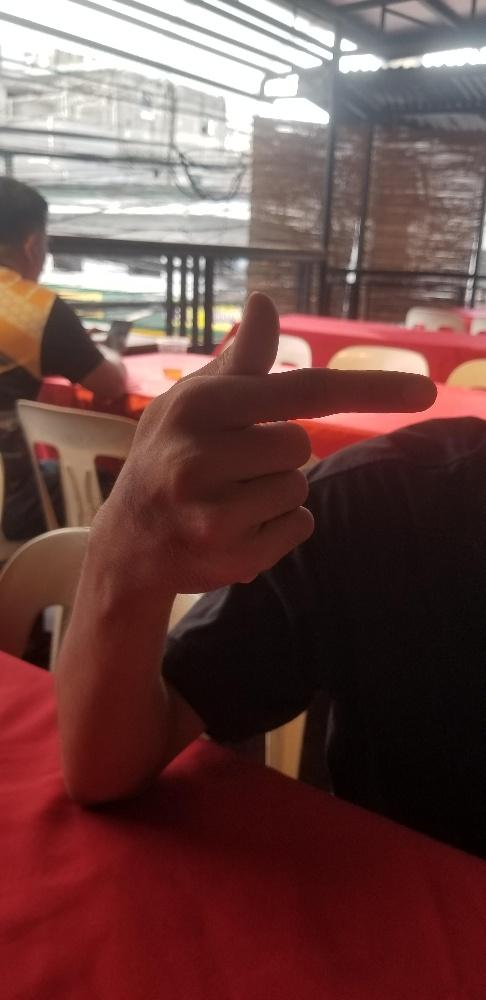g: (108, 289, 439, 600)
